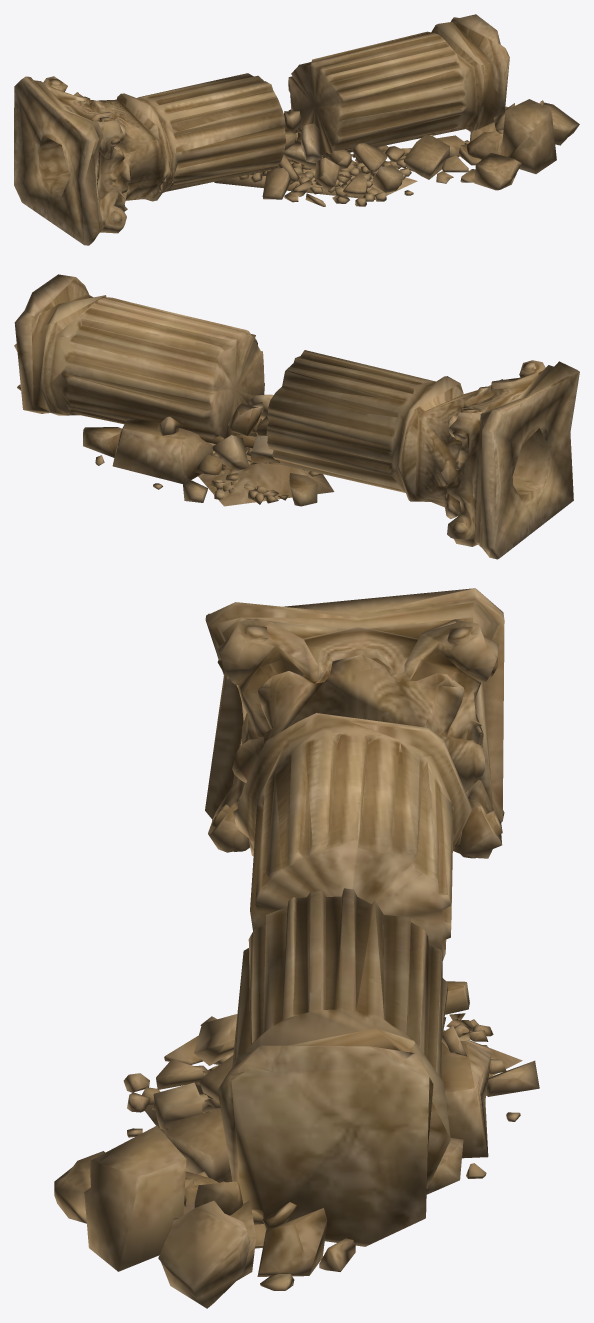
The model's file is pilier.glb.
3 renders of one model, top to bottom at view 1: azimuth 30°, elevation 25°; view 2: azimuth 150°, elevation 25°; view 3: azimuth 270°, elevation 25°, orthographic. The views are drawn at different scales.
Bounding box in the file's own units: 0.9551 × 0.2407 × 0.4106.
Materials: 1 (1 with a texture image).
